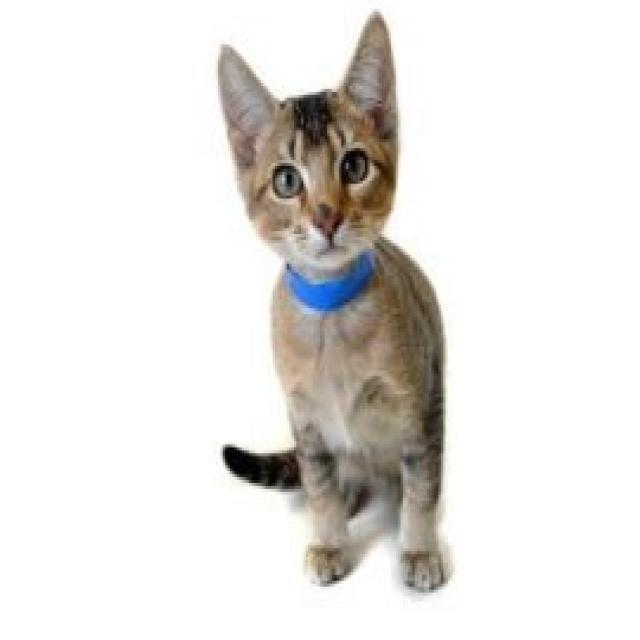Abyssinian: (213, 6, 459, 598)
